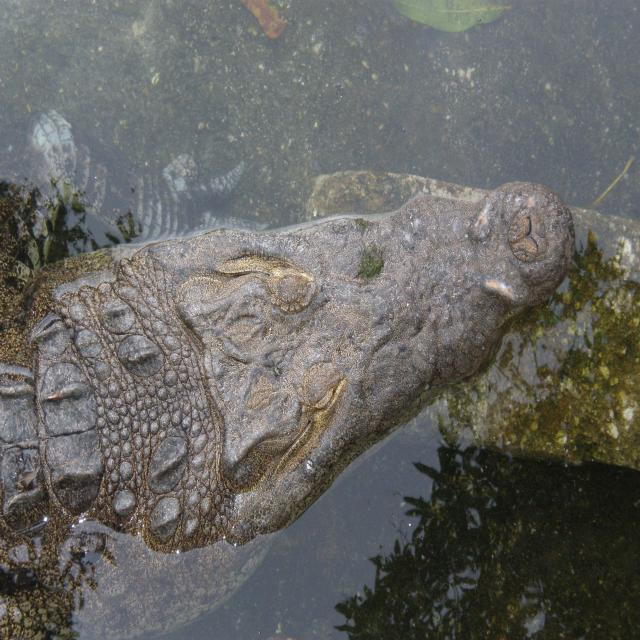crocodile: (10, 188, 575, 640)
